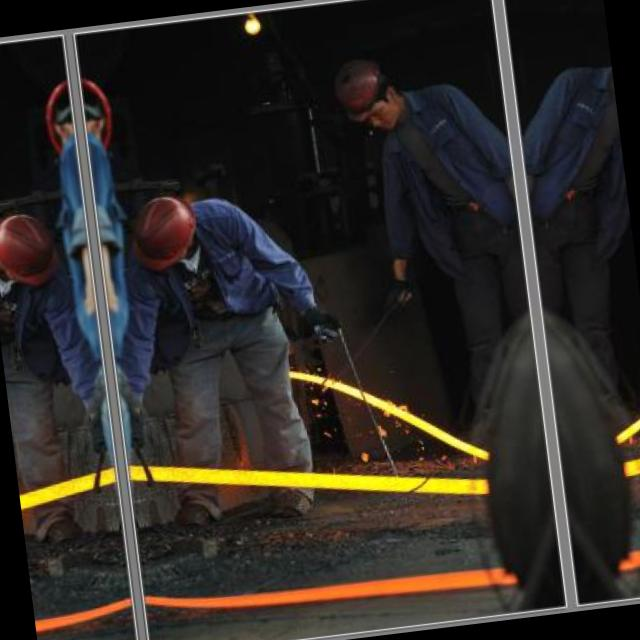helmet: (122, 188, 206, 280), (330, 52, 410, 139), (0, 204, 66, 297), (42, 70, 80, 172), (78, 66, 116, 167)
